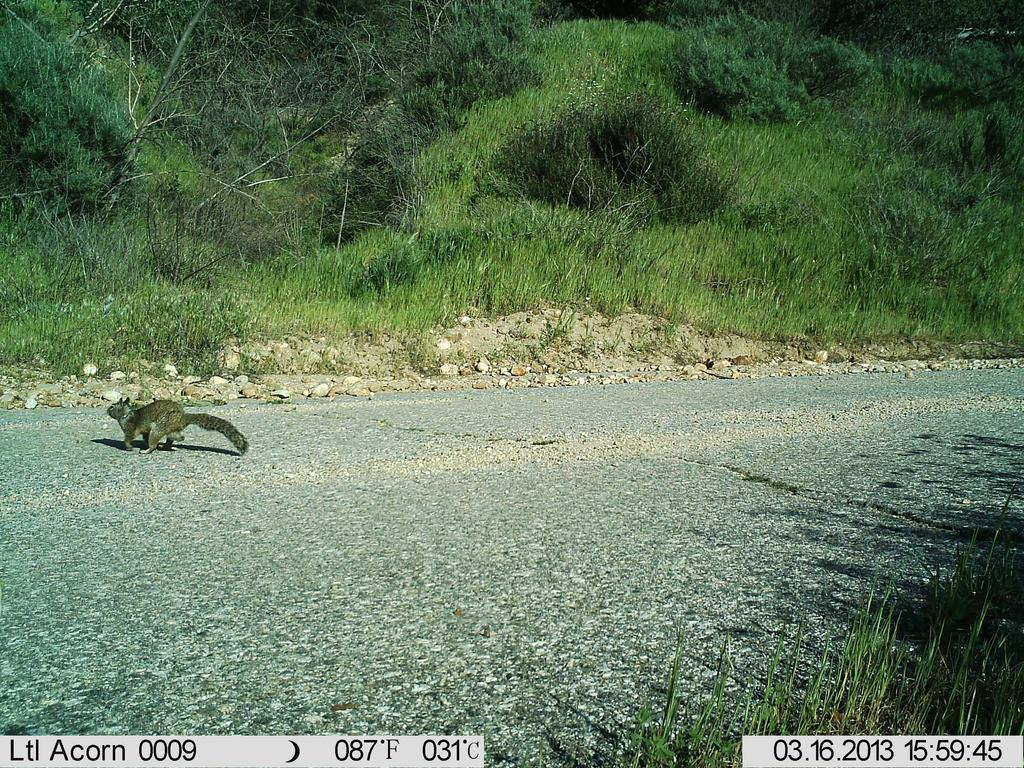squirrel: (106, 389, 251, 466)
